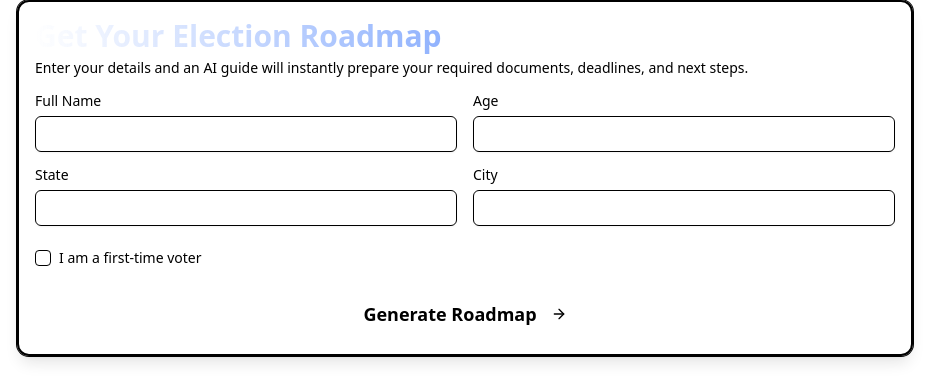
VoterJourney Component › should disable submit button while loading
Step 1. Type "Test" into the field labelled "Full Name" → {"x": 246, "y": 134}, box [35,116,457,152]
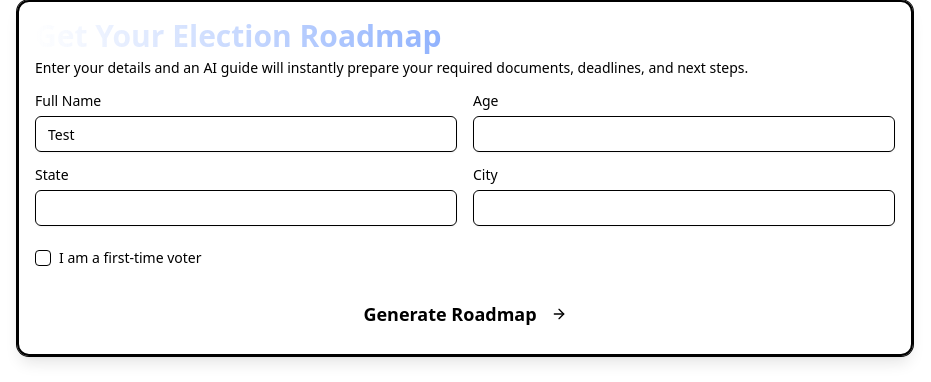
Step 2. Type "25" into the number field labelled "Age" → {"x": 684, "y": 134}, box [473,116,895,152]
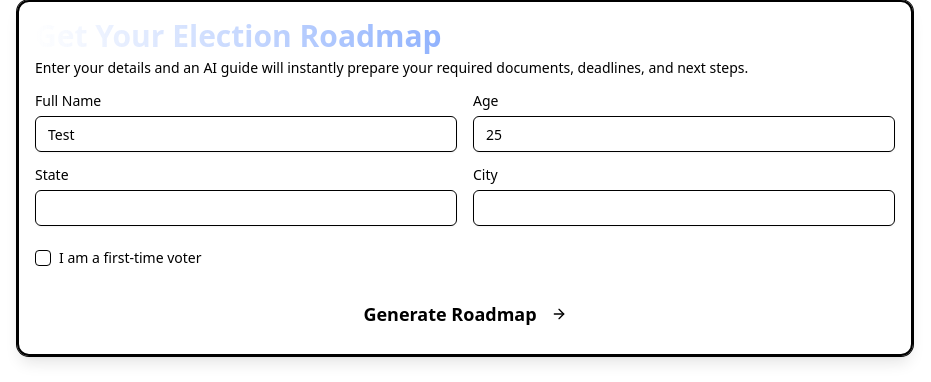
Step 3. Type "Delhi" into the field labelled "State" → {"x": 246, "y": 208}, box [35,190,457,226]
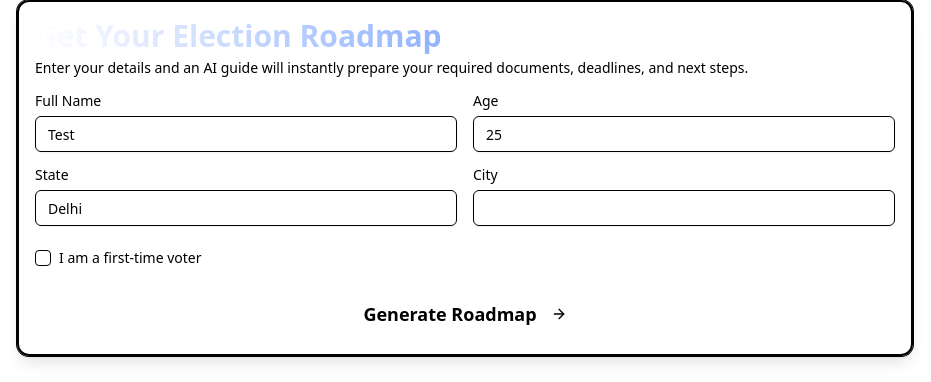
Step 4. Type "Delhi" into the field labelled "City" → {"x": 684, "y": 208}, box [473,190,895,226]
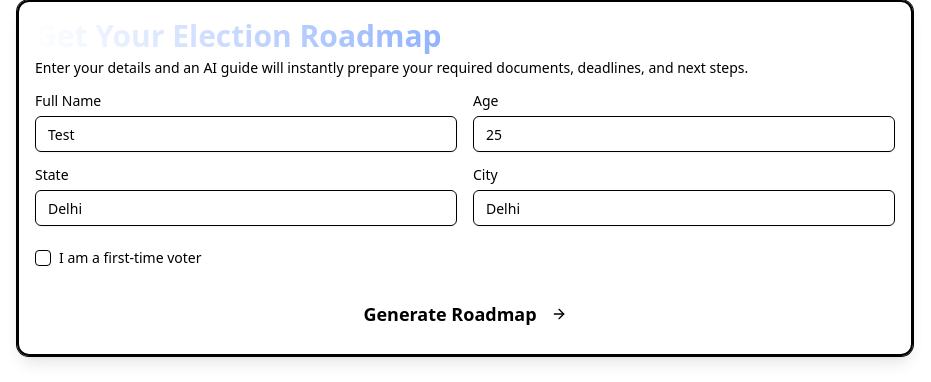
Step 5. Click the button "Generate Roadmap" → {"x": 465, "y": 314}, box [35,290,895,338]
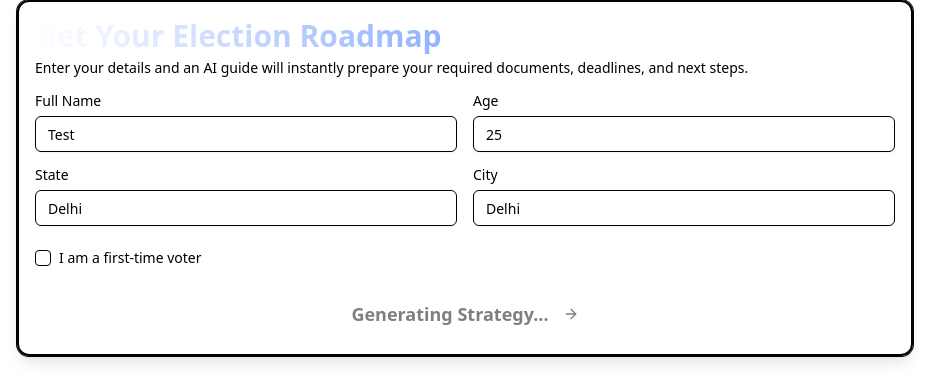
expect the button "Generating Strategy..." is disabled: met, box [35,290,895,338]
